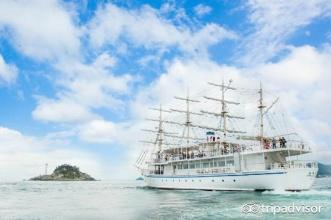youlun: (139, 133, 324, 188)
